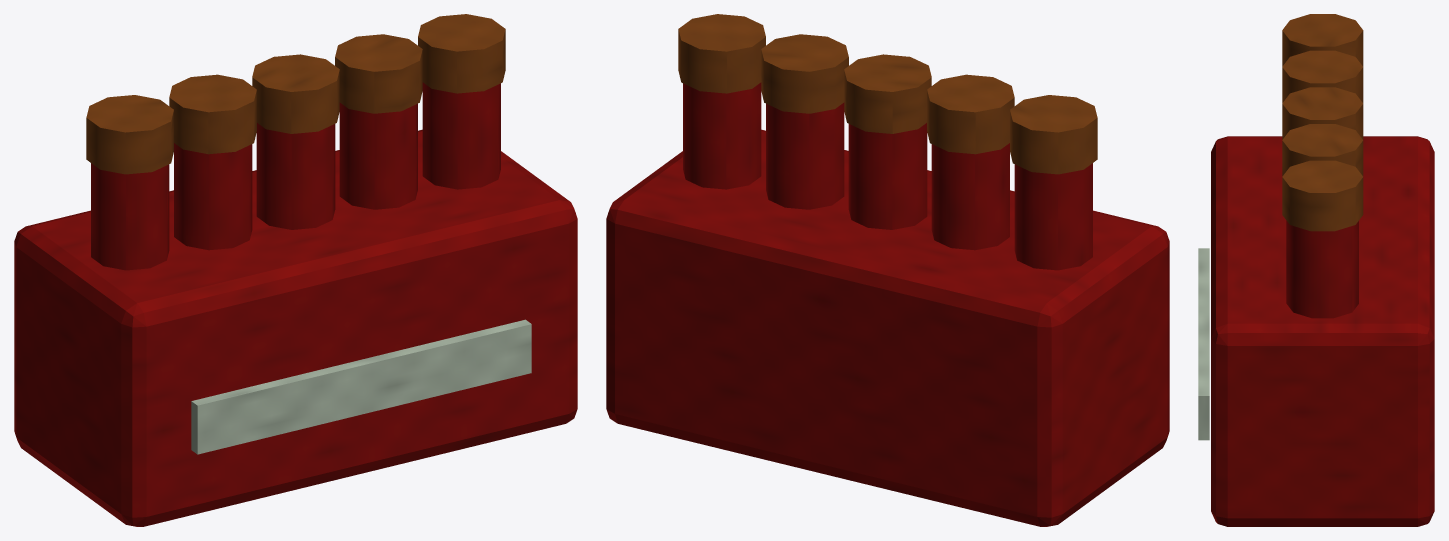
Rendered from shell_box.glb.
3 views of the same model, side by side, from view 1: azimuth 30°, elevation 25°; view 2: azimuth 150°, elevation 25°; view 3: azimuth 270°, elevation 25° (orthographic). The views are drawn at different scales.
Parts seen in each view (by area): view 1: shell_box; view 2: shell_box; view 3: shell_box.
Boxes of the visible parts, <box> form: shell_box: <box>14,14,577,526</box>; shell_box: <box>606,14,1169,526</box>; shell_box: <box>1198,14,1434,526</box>.
Size of the model in its own units: 0.34 by 0.26 by 0.169.
Materials: 3 (3 with a texture image).
